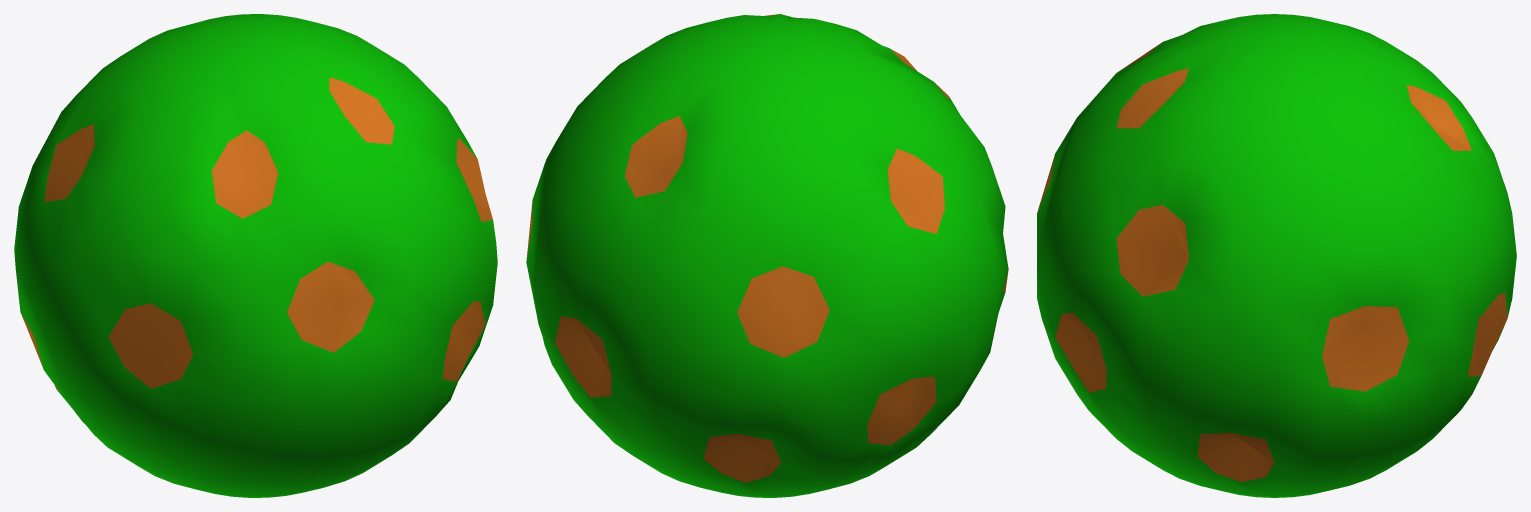
Rendered from Planet6.fbx.
The picture shows the model from 3 angles, left to right: view 1: azimuth 30°, elevation 25°; view 2: azimuth 150°, elevation 25°; view 3: azimuth 270°, elevation 25°; orthographic projection.
Visible parts, largest first — view 1: Sphere; view 2: Sphere; view 3: Sphere.
Boxes of the visible parts, left/top/right/bottom form: Sphere: left=14, top=14, right=497, bottom=497; Sphere: left=526, top=14, right=1008, bottom=497; Sphere: left=1037, top=14, right=1516, bottom=497.
Size of the model in its own units: 729 by 729 by 722.
